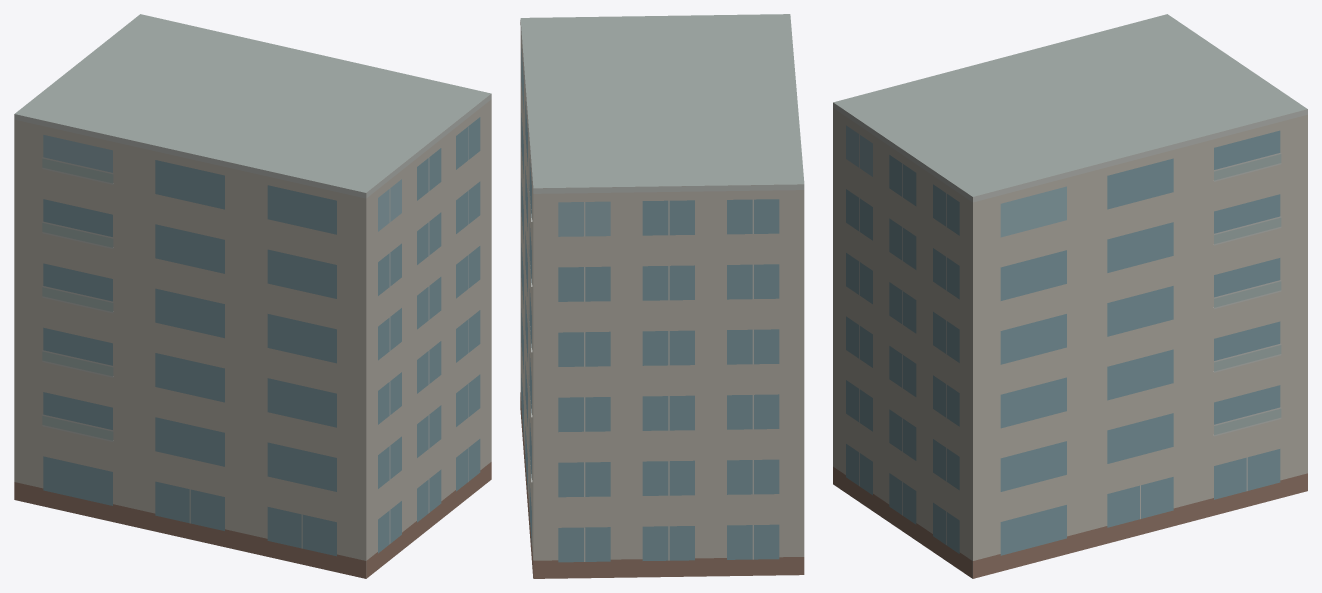
Rendered from survey-upis-32589996.glb.
3 views of the same model, side by side, from view 1: azimuth 30°, elevation 25°; view 2: azimuth 150°, elevation 25°; view 3: azimuth 270°, elevation 25° (orthographic). The views are drawn at different scales.
Parts seen in each view (by area): view 1: survey-upis-32589996.tmp; view 2: survey-upis-32589996.tmp; view 3: survey-upis-32589996.tmp.
Part boxes in pixels (x1=…): survey-upis-32589996.tmp: x1=14, y1=14, x2=491, y2=578; survey-upis-32589996.tmp: x1=520, y1=14, x2=804, y2=578; survey-upis-32589996.tmp: x1=833, y1=14, x2=1307, y2=578.
Size of the model in its own units: 17.27 by 16.8 by 18.94.
